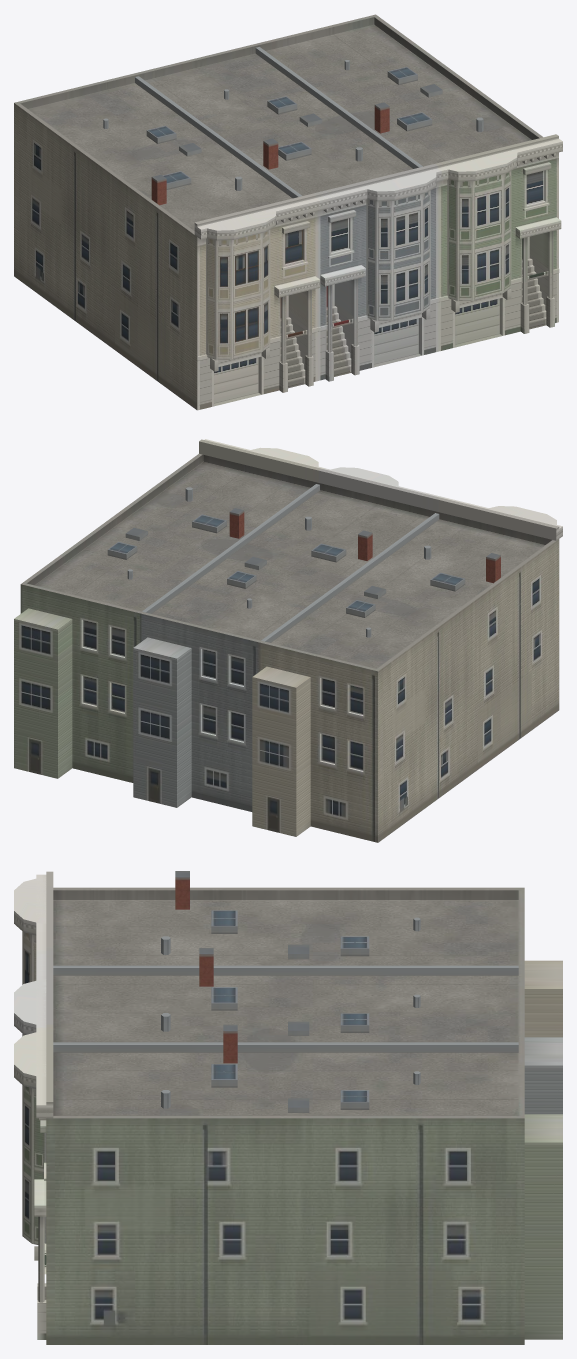
The model's file is sf_victorian_c.glb.
The picture shows the model from 3 angles, top to bottom: view 1: azimuth 30°, elevation 25°; view 2: azimuth 150°, elevation 25°; view 3: azimuth 270°, elevation 25°; orthographic projection. The views are drawn at different scales.
Visible parts, largest first — view 1: sf_victorian_c; view 2: sf_victorian_c; view 3: sf_victorian_c.
Boxes of the visible parts, x1,y1,x2,y2 form: sf_victorian_c: (14,14,562,410); sf_victorian_c: (14,439,562,842); sf_victorian_c: (14,871,562,1344).
Bounding box in the file's own units: 22.8 × 11.5 × 22.95.
Materials: 1 (1 with a texture image).
